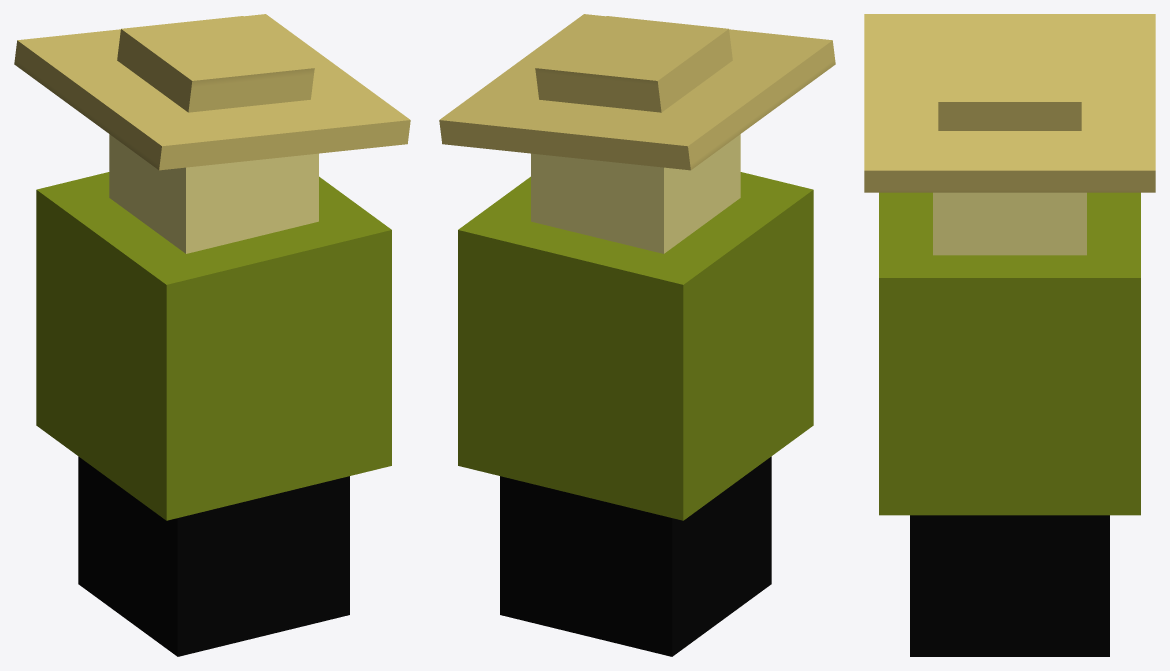
Rendered from personFarmer.fbx.
3 renders of one model, left to right at view 1: azimuth 30°, elevation 25°; view 2: azimuth 150°, elevation 25°; view 3: azimuth 270°, elevation 25°, orthographic.
Parts seen in each view (by area): view 1: person1; view 2: person1; view 3: person1.
Part boxes in pixels (bbox=[...]): person1: bbox=[14, 14, 410, 656]; person1: bbox=[439, 14, 835, 656]; person1: bbox=[864, 14, 1155, 656].
Bounding box in the file's own units: 11.01 × 23.35 × 10.97.
